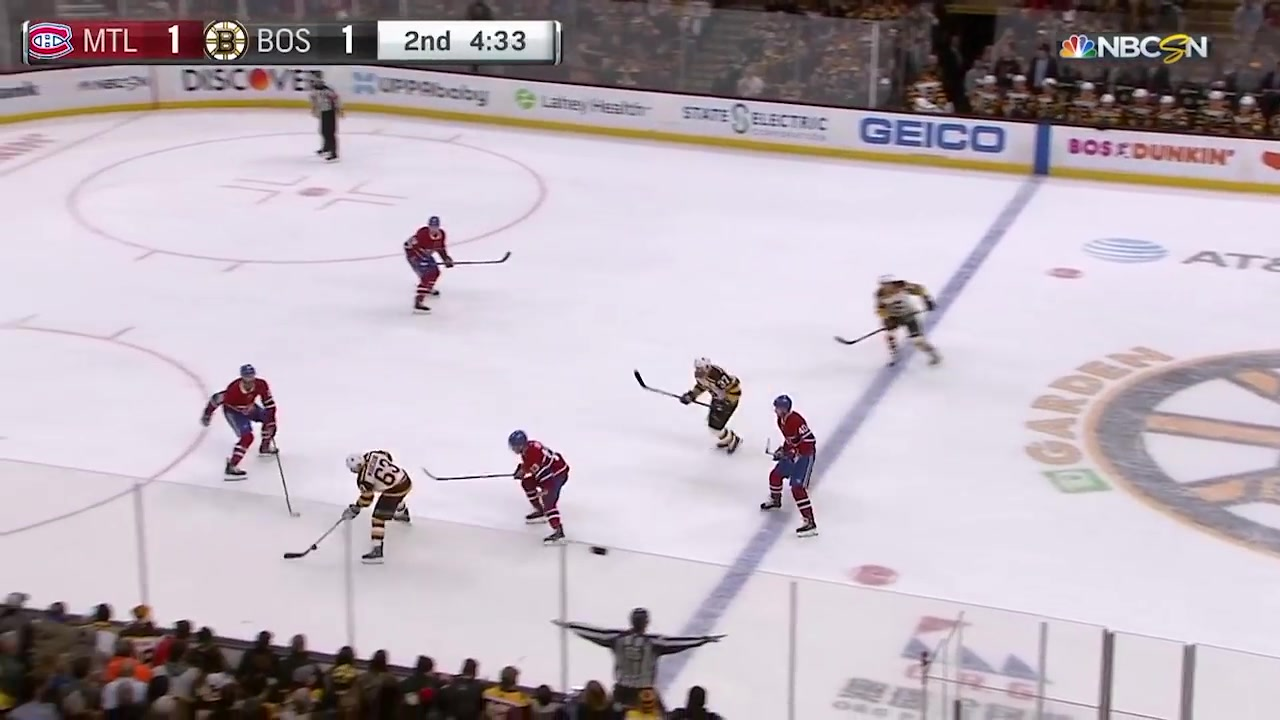geico: (856, 104, 1018, 160)
